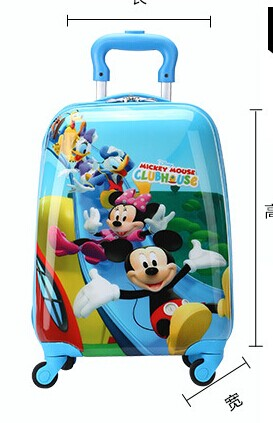suitcase: (28, 30, 234, 390)
